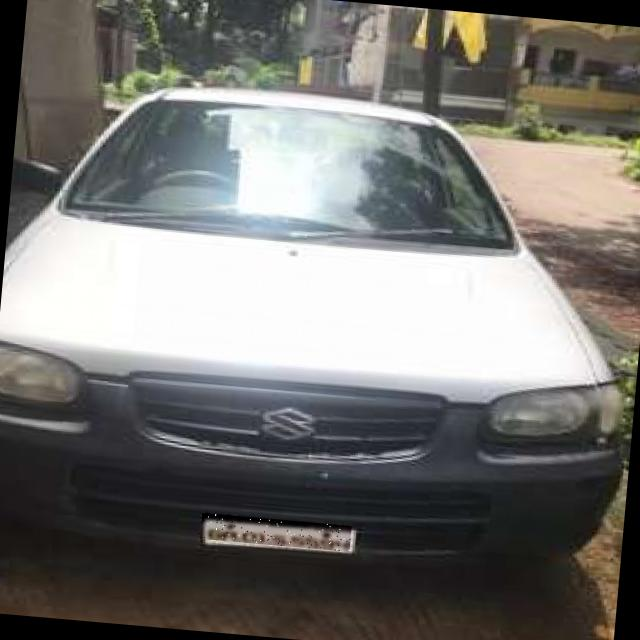Plate: (201, 514, 353, 553)
